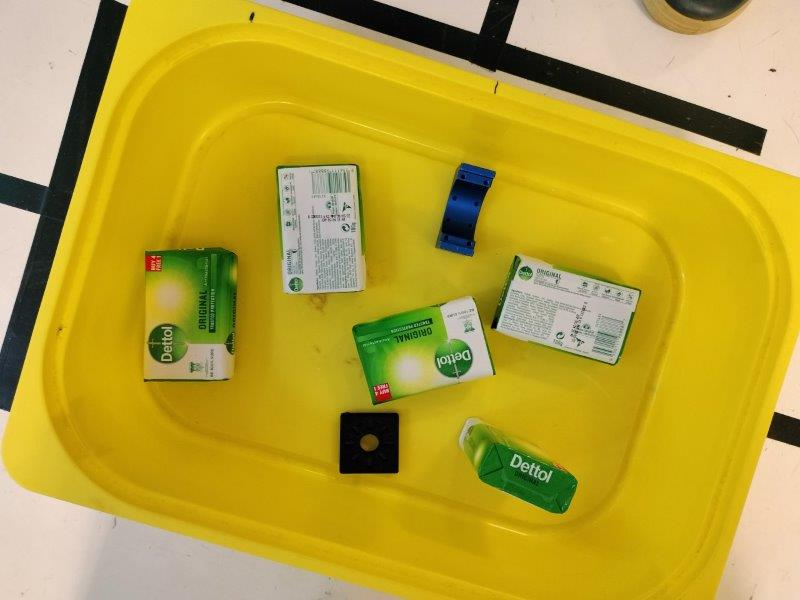Dettol: (490, 255, 642, 365), (353, 295, 497, 405), (141, 250, 238, 383), (458, 416, 581, 515), (274, 165, 367, 295)
